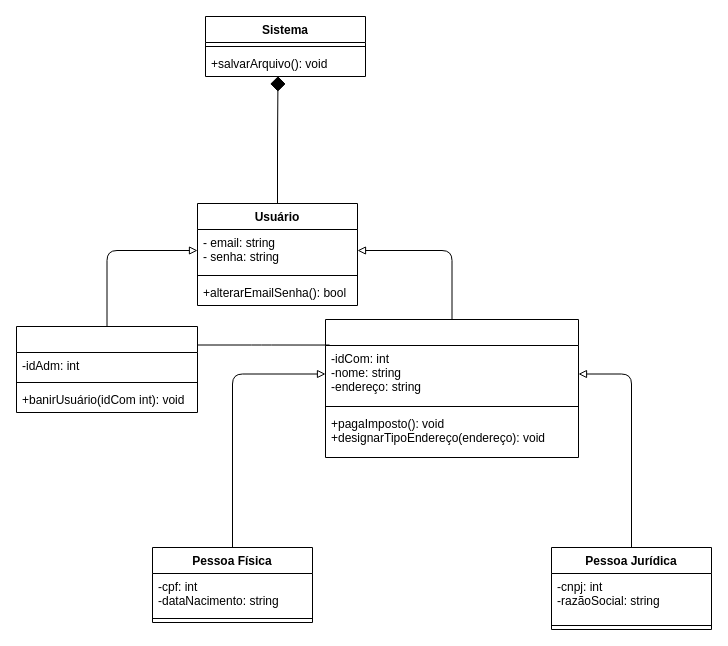
The diagram is 728 pixels wide and 646 high, and some of its shapes have lost their labels. Each missing label, with the box of its shape:
UsuárioADM: (16, 326, 198, 412)
UsuárioComum: (324, 318, 578, 458)
